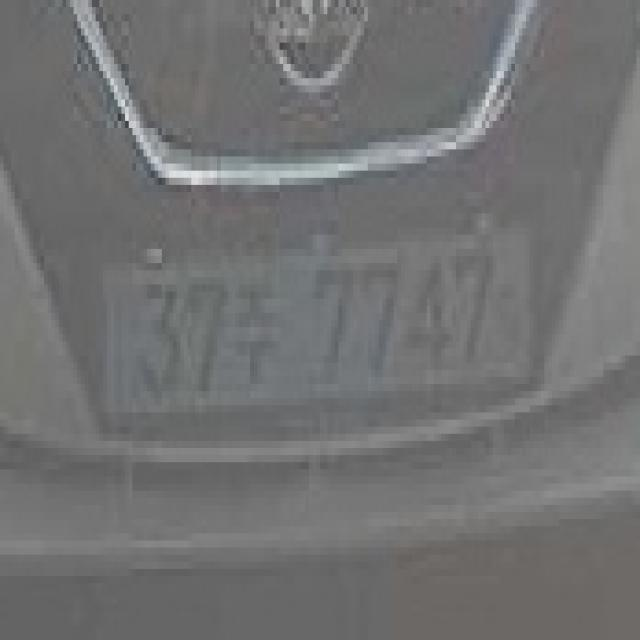3: (140, 270, 180, 398)
4: (404, 249, 448, 377)
7: (313, 263, 357, 391), (357, 256, 401, 384), (452, 249, 497, 370), (188, 278, 228, 406)
ju: (232, 270, 276, 398)
license_plate: (103, 220, 537, 448)
